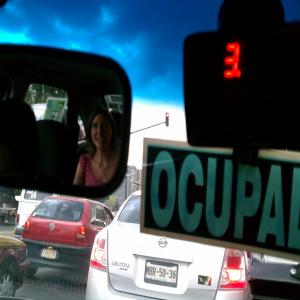Vehicle-registration-plate: (145, 261, 180, 290), (43, 247, 58, 260)
